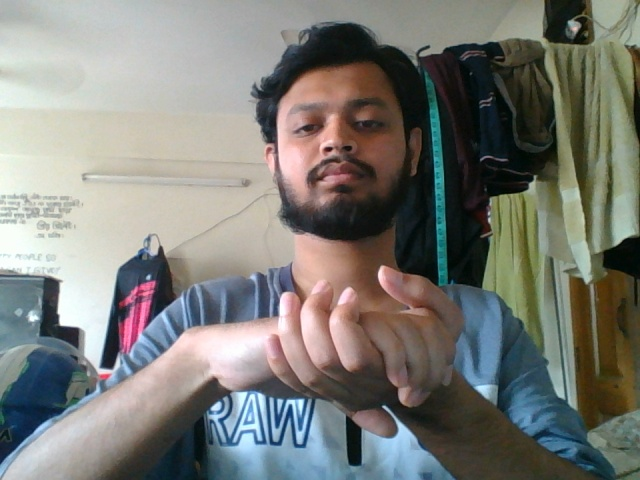bondhu: (140, 256, 594, 444)
